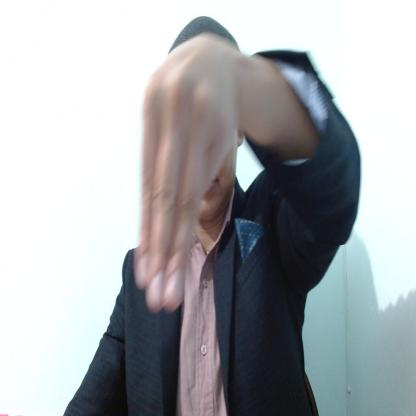M: (136, 36, 240, 312)
